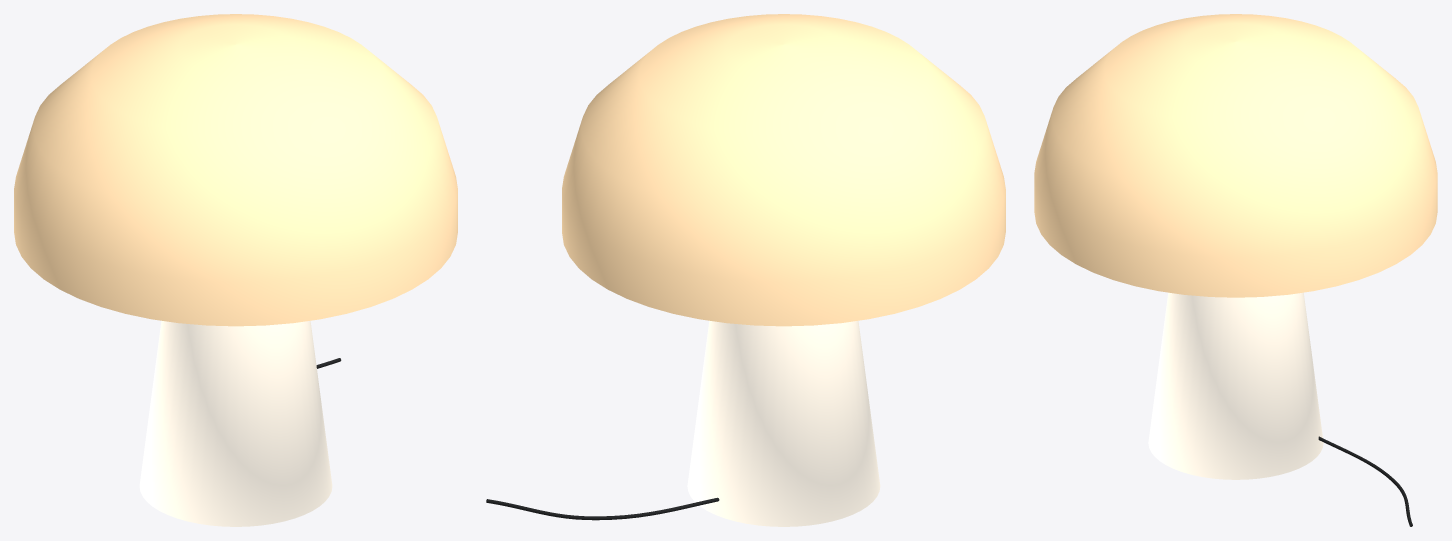
Rendered from ref08_05.glb.
The picture shows the model from 3 angles, left to right: view 1: azimuth 30°, elevation 25°; view 2: azimuth 150°, elevation 25°; view 3: azimuth 270°, elevation 25°; orthographic projection. The views are drawn at different scales.
Parts seen in each view (by area): view 1: ref08_05; view 2: ref08_05; view 3: ref08_05.
Part boxes in pixels (x1=…): ref08_05: x1=14, y1=14, x2=457, y2=526; ref08_05: x1=486, y1=14, x2=1005, y2=526; ref08_05: x1=1034, y1=14, x2=1437, y2=526.
Size of the model in its own units: 0.4703 by 0.505 by 0.46.
4 materials, 1 textured.
